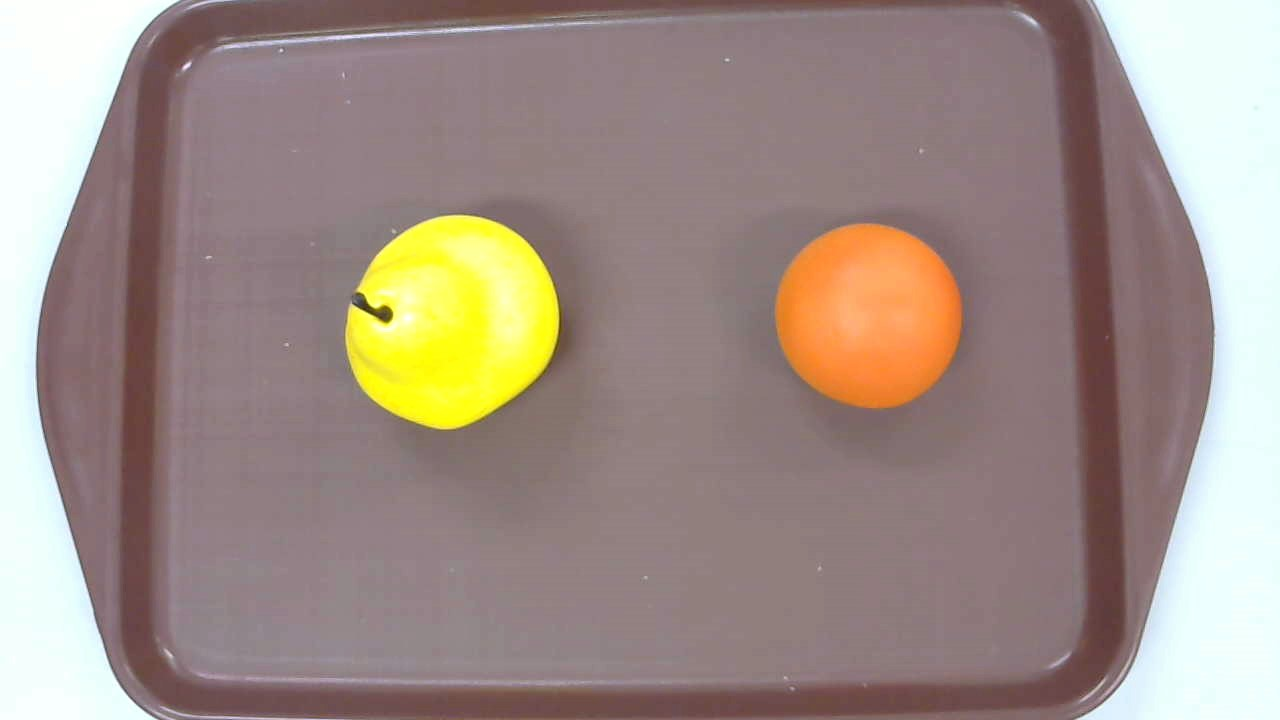bun: (774, 223, 963, 410)
yellow pear: (345, 214, 560, 430)
